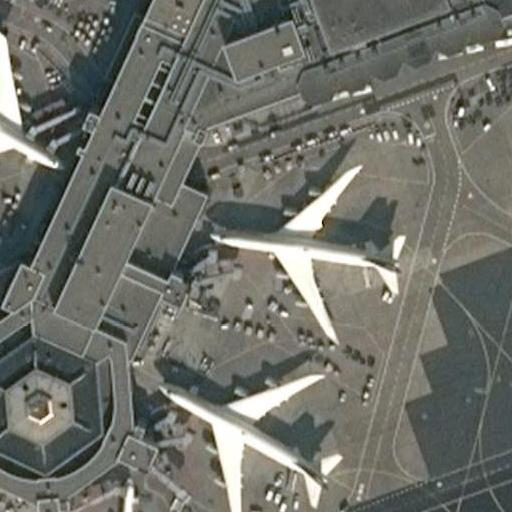Aircraft: (213, 163, 414, 333), (127, 363, 350, 512), (0, 30, 57, 183), (80, 487, 160, 512)
